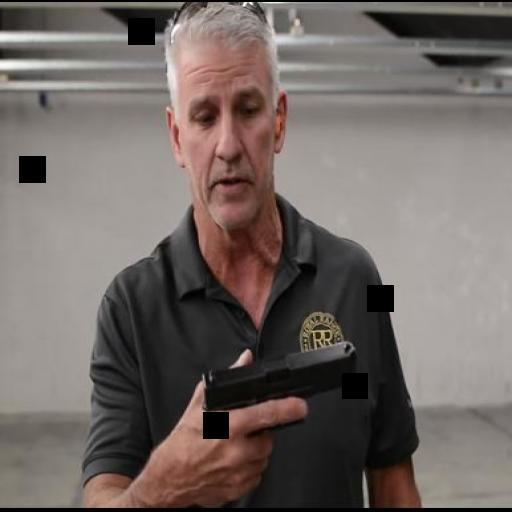Handgun: (192, 338, 360, 500)
